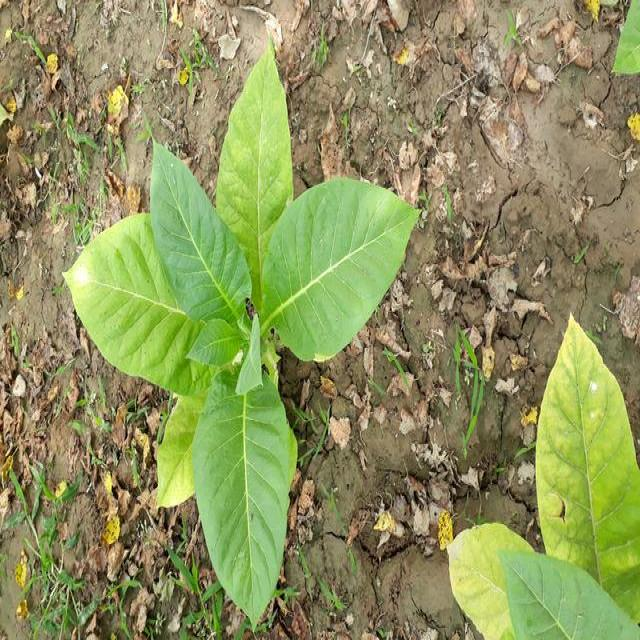crop: (62, 29, 402, 627), (462, 328, 640, 640)
